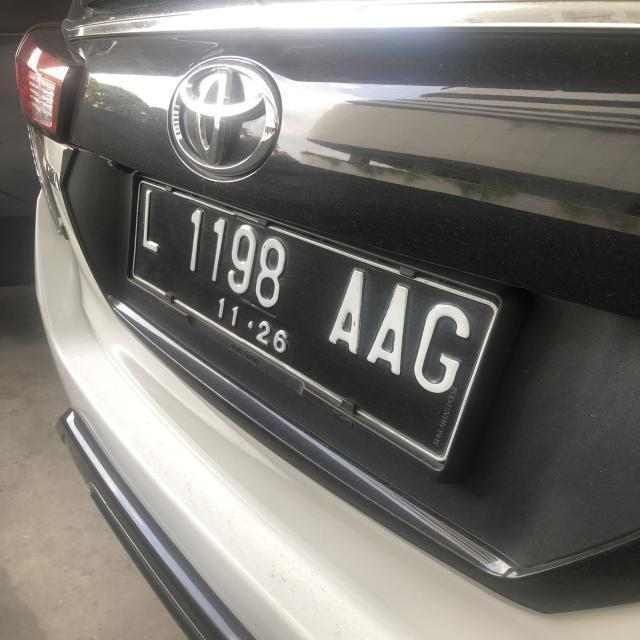1: (204, 213, 234, 284), (182, 207, 205, 271)
8: (254, 234, 286, 306)
9: (226, 228, 260, 294)
A: (368, 282, 414, 377), (331, 268, 372, 356)
G: (413, 299, 467, 394)
L: (139, 192, 161, 252)
